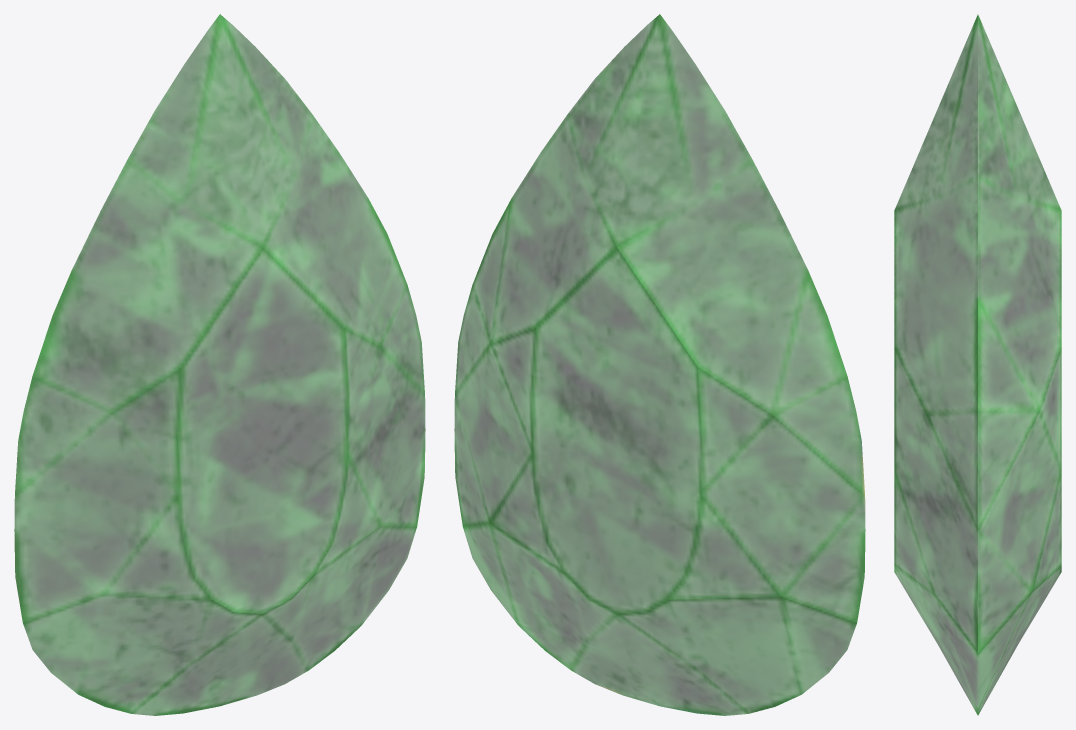
Rendered from Pearl.glb.
3 renders of one model, left to right at view 1: azimuth 30°, elevation 25°; view 2: azimuth 150°, elevation 25°; view 3: azimuth 270°, elevation 25°, orthographic. The views are drawn at different scales.
Parts seen in each view (by area): view 1: Plane.011_Diamond_Master_0; view 2: Plane.011_Diamond_Master_0; view 3: Plane.011_Diamond_Master_0.
Boxes of the visible parts, bbox=[...] form: Plane.011_Diamond_Master_0: bbox=[14, 14, 425, 715]; Plane.011_Diamond_Master_0: bbox=[454, 14, 865, 715]; Plane.011_Diamond_Master_0: bbox=[894, 14, 1061, 715].
Size of the model in its own units: 0.7371 by 1.19 by 0.2667.
Materials: 1 (1 with a texture image).
